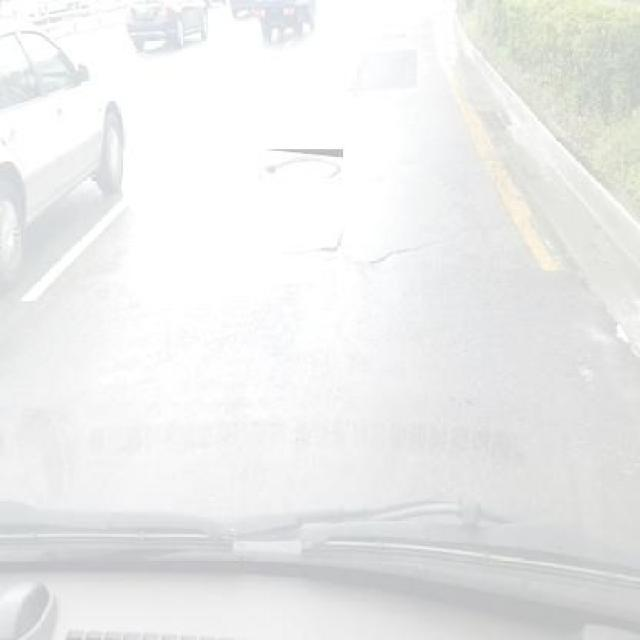Manhole: (476, 88, 522, 144), (260, 150, 343, 178)
Pothole: (294, 222, 449, 284)
